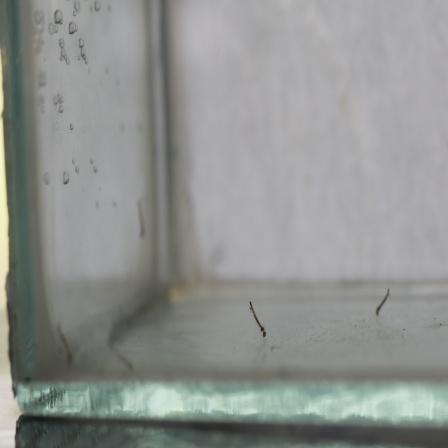Jentik-Nyamuk: (246, 298, 270, 341)
